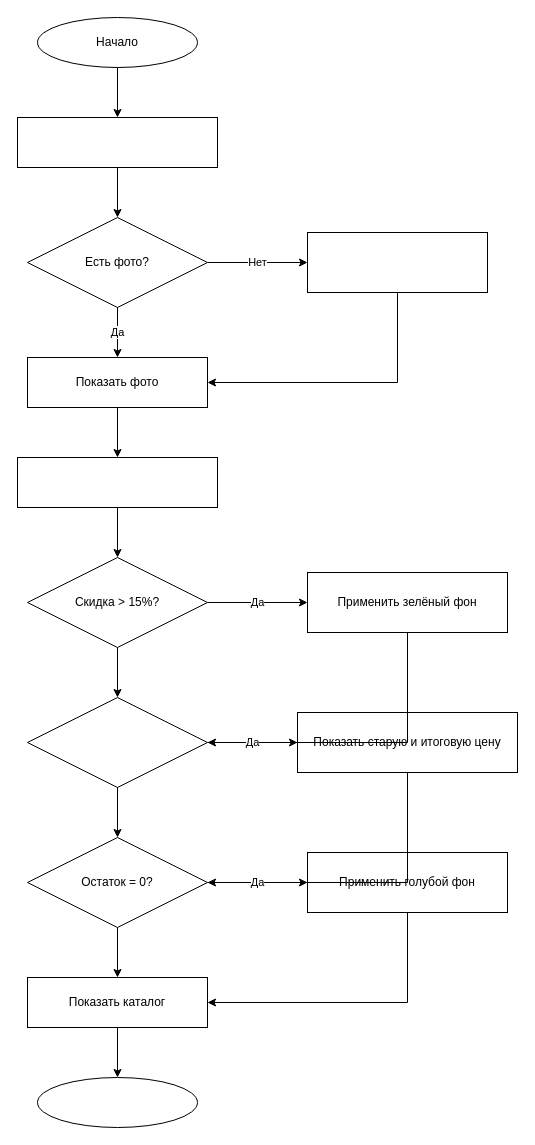
Image size: 535x1145. Some labels were removed from this diagram. The shapes that lost their labels are listed below. From the top down, each one's centre as x and y in pixels, then its label:
the point at 117,142: Получить товары из БД
the point at 397,262: Показать picture.png
the point at 117,482: Вывести остальные поля
the point at 117,742: Цена снижена?
the point at 117,1102: Конец
